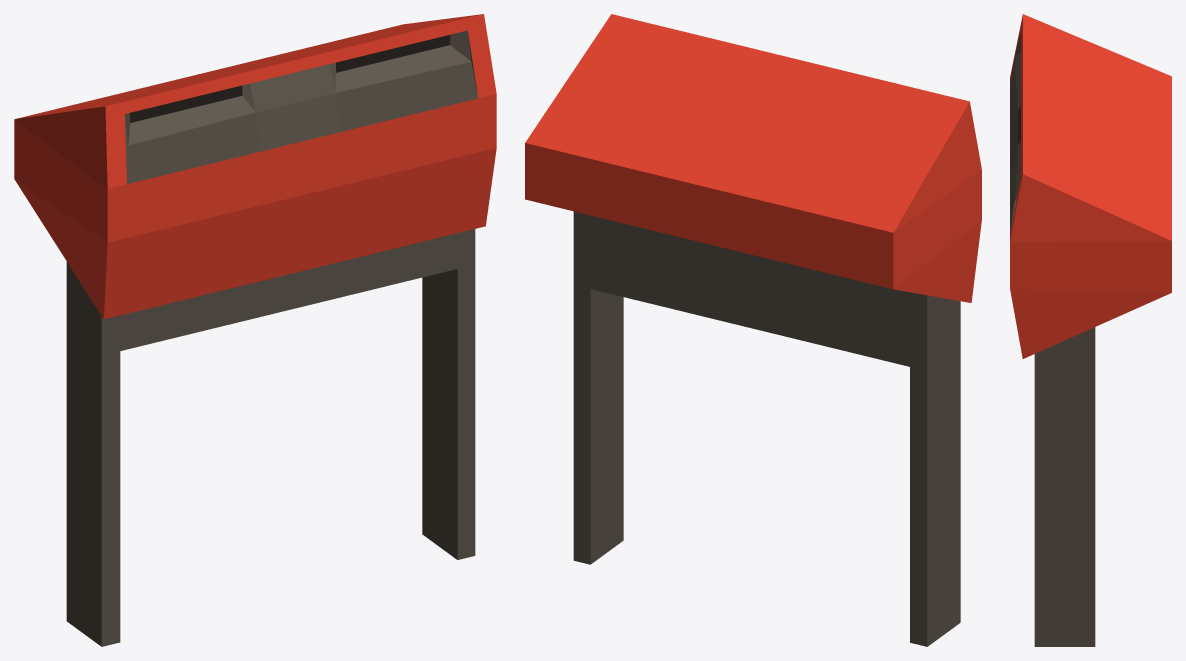
Rendered from postbusTEXTURED.fbx.
3 renders of one model, left to right at view 1: azimuth 30°, elevation 25°; view 2: azimuth 150°, elevation 25°; view 3: azimuth 270°, elevation 25°, orthographic. The views are drawn at different scales.
Parts seen in each view (by area): view 1: Plane.006; view 2: Plane.006; view 3: Plane.006.
Boxes of the visible parts, box(x1,y1,x2,y2) form: Plane.006: box(14, 14, 496, 646); Plane.006: box(525, 14, 981, 646); Plane.006: box(1010, 14, 1171, 646).
Bounding box in the file's own units: 51.41 × 68.97 × 21.37.
